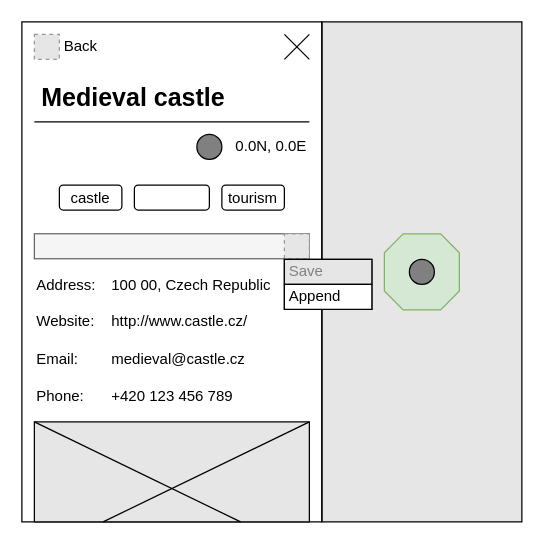
Image size: 544x545. Some labels were removed from this diagram. Grey dashed boxes stand in for pictures. The box of each missing label's shape, as (x1, y1, x2, y2) in pixels:
museum: (133, 184, 209, 210)
Saved as My favorite castle .: (33, 232, 309, 259)
